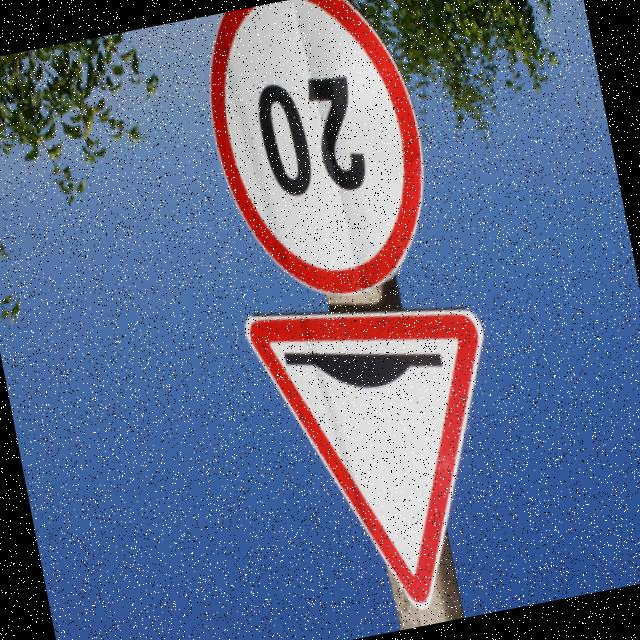speed_limit_20: (183, 0, 451, 329)
